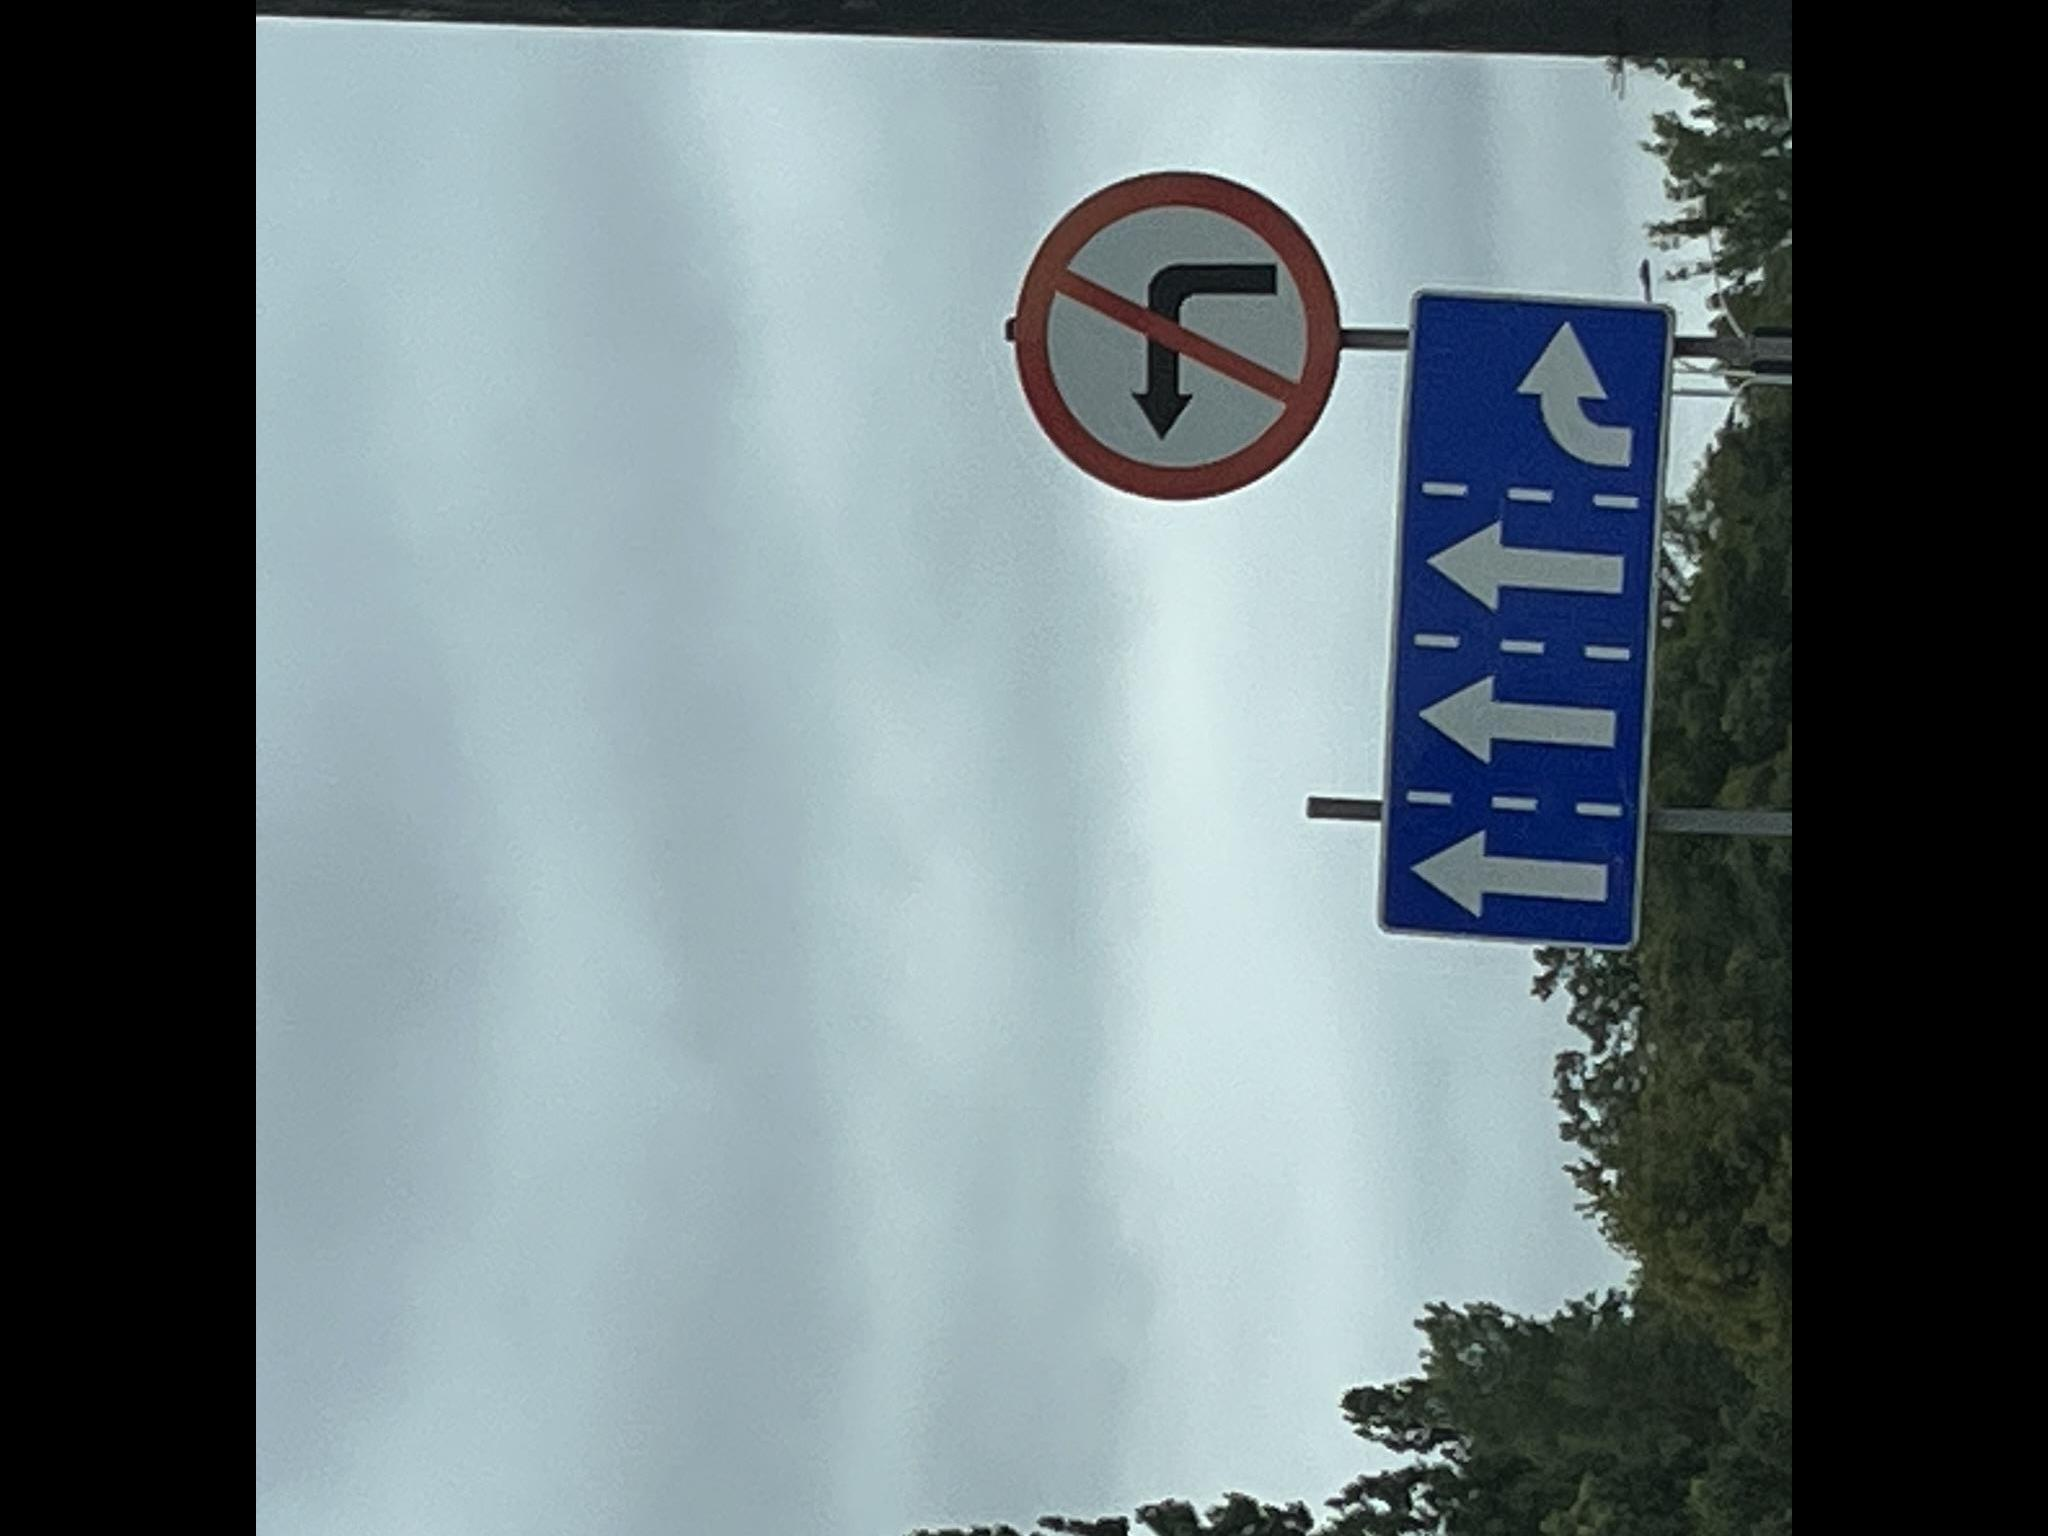other: (1372, 286, 1678, 952)
prohibitory: (1010, 166, 1344, 504)
